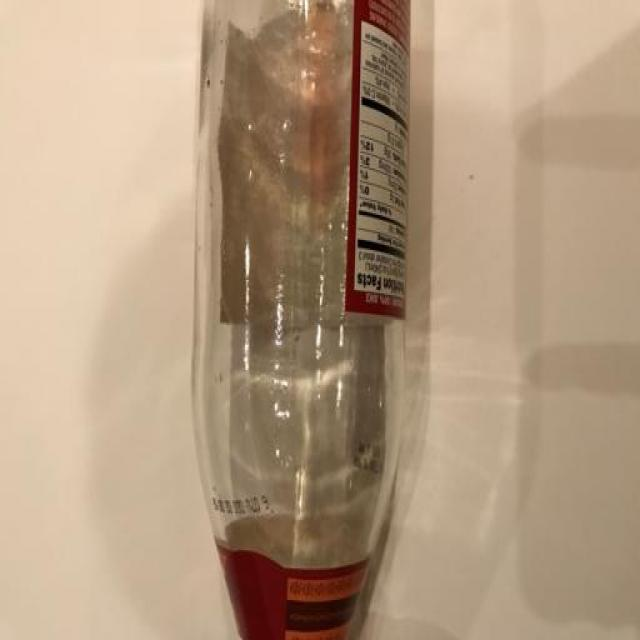glass: (135, 1, 468, 640)
